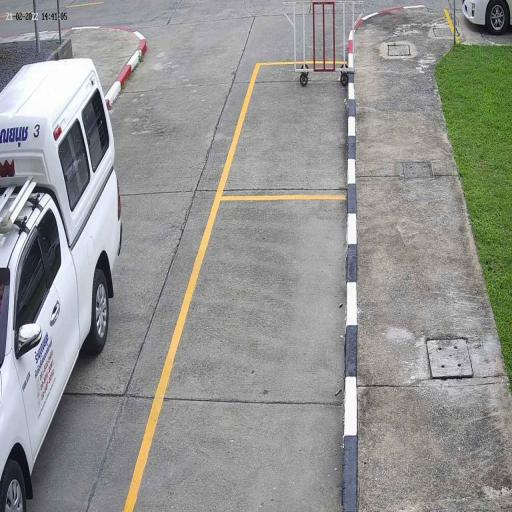car: (0, 57, 123, 510)
